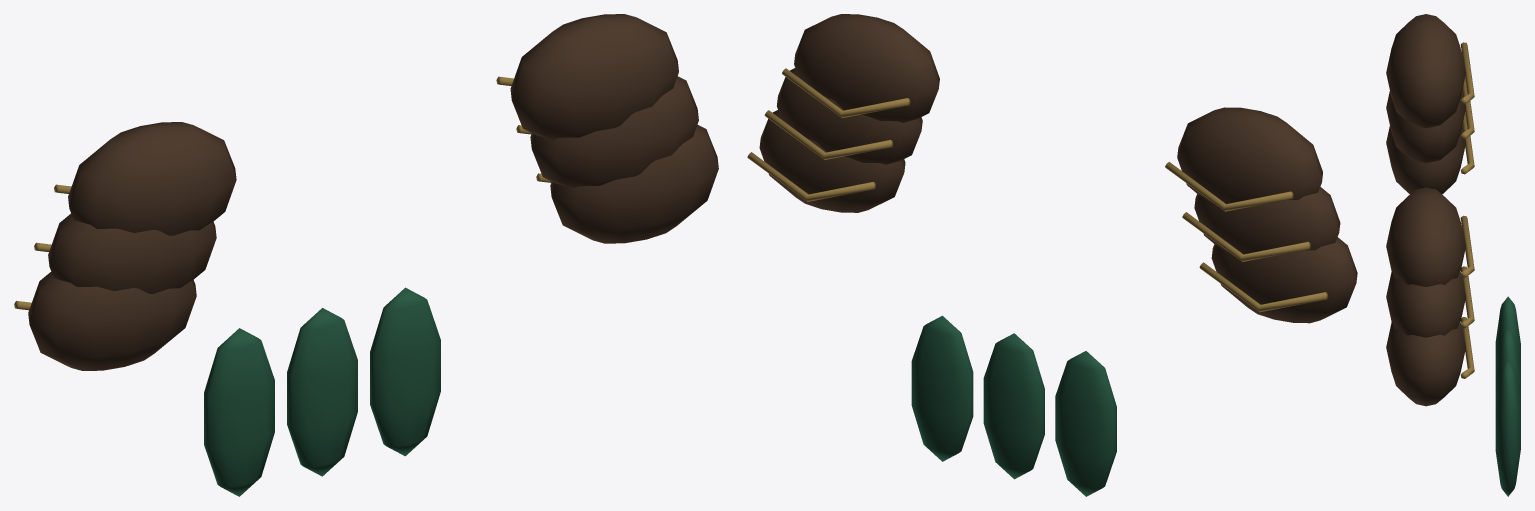
The model's file is traveler_guard.glb.
3 views of the same model, side by side, from view 1: azimuth 30°, elevation 25°; view 2: azimuth 150°, elevation 25°; view 3: azimuth 270°, elevation 25° (orthographic). The views are drawn at different scales.
Visible parts, largest first — view 1: Clean_traveler_guard; view 2: Clean_traveler_guard; view 3: Clean_traveler_guard.
Boxes of the visible parts, x1,y1,x2,y2 form: Clean_traveler_guard: (14, 14, 718, 496); Clean_traveler_guard: (747, 14, 1357, 496); Clean_traveler_guard: (1386, 14, 1520, 496).
Size of the model in its own units: 0.622 by 0.381 by 0.1314.
